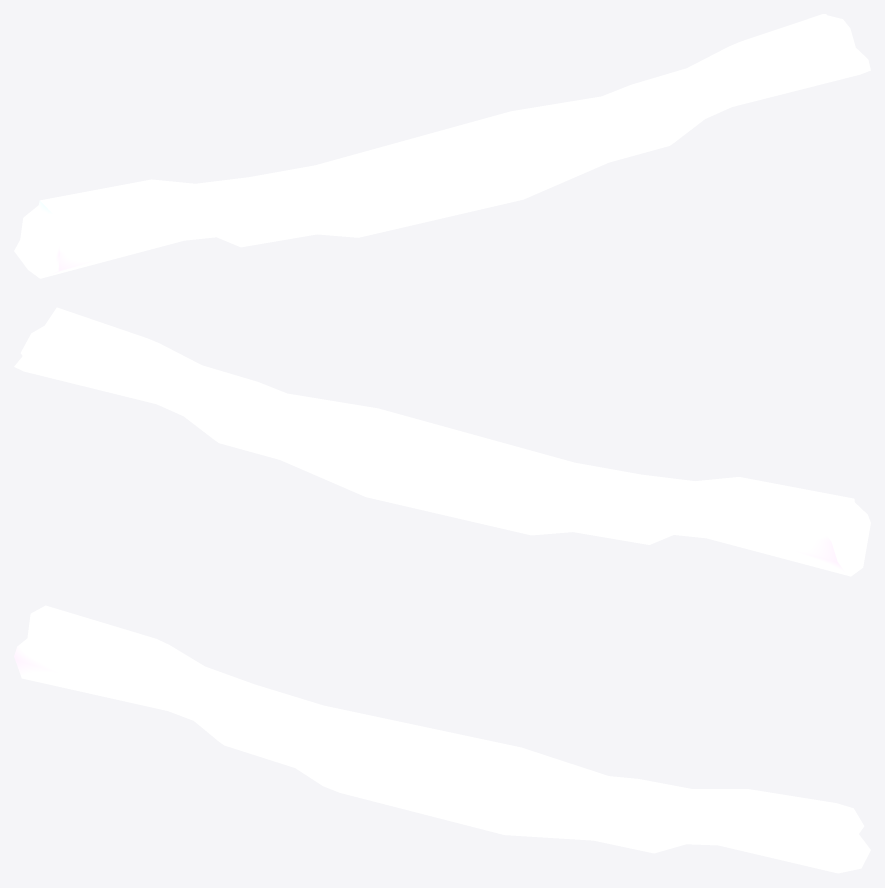
3 views of the same model, one above another, from view 1: azimuth 30°, elevation 25°; view 2: azimuth 150°, elevation 25°; view 3: azimuth 330°, elevation 25° (orthographic).
Visible parts, largest first — view 1: SM_WaterLily_01_LOD0; view 2: SM_WaterLily_01_LOD0; view 3: SM_WaterLily_01_LOD0.
Boxes of the visible parts, <box> form: SM_WaterLily_01_LOD0: <box>14,14,870,278</box>; SM_WaterLily_01_LOD0: <box>14,307,870,576</box>; SM_WaterLily_01_LOD0: <box>14,605,870,873</box>.
Size of the model in its own units: 1.23 by 0.1473 by 0.1216.
